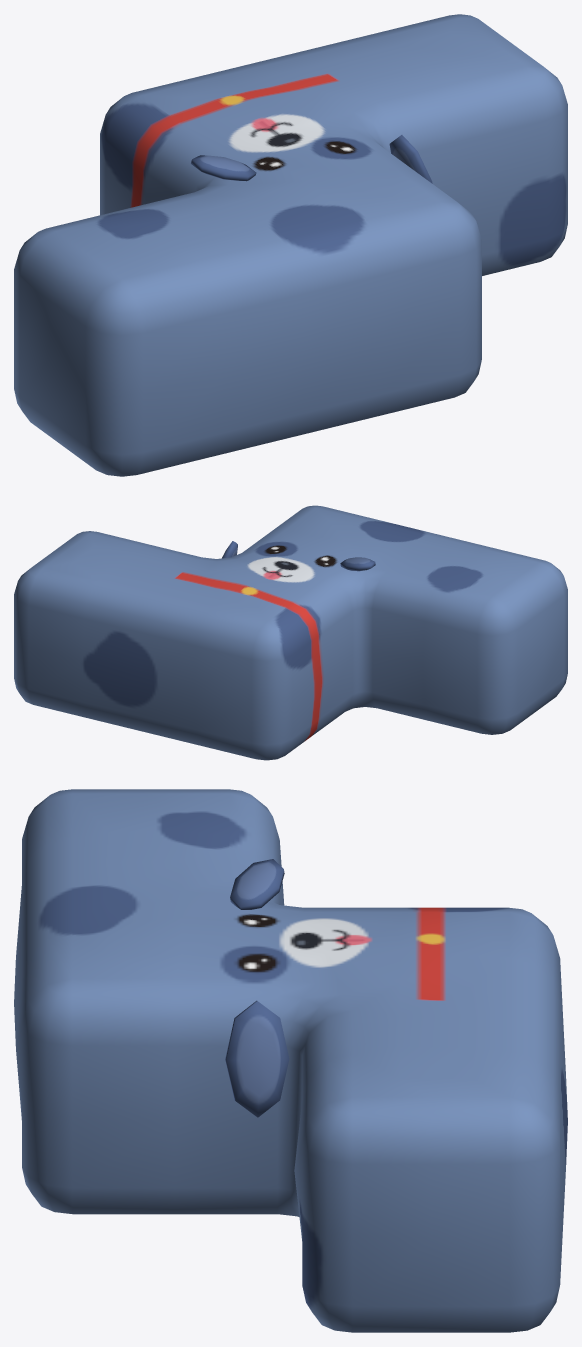
The model's file is Dog_S.fbx.
3 views of the same model, one above another, from view 1: azimuth 30°, elevation 25°; view 2: azimuth 150°, elevation 25°; view 3: azimuth 270°, elevation 25° (orthographic). The views are drawn at different scales.
Parts seen in each view (by area): view 1: Dog_S; view 2: Dog_S; view 3: Dog_S.
Part boxes in pixels (box(x1,y1,x2,y2)): Dog_S: box(14, 14, 567, 476); Dog_S: box(14, 505, 567, 760); Dog_S: box(14, 789, 567, 1332).
Size of the model in its own units: 2.98 by 0.9674 by 1.98.
1 material, 1 textured.
